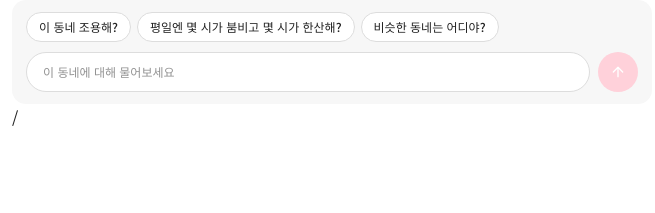
Test case: ChatThread › 동 상세(dongHref 없음): 동이 여럿인 비교 답에도 링크 없음
The image size is (655, 213).
In the field named "이 동네에 물어보기": (308, 72) [43,64,573,80], type "경포동이랑 비교하면?"
Then press Enter
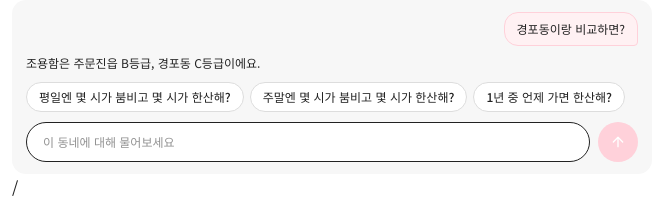
Check: the text "조용함은 주문진읍 B등급, 경포동 C등급이에요." is shown, box [26,54,260,71]
